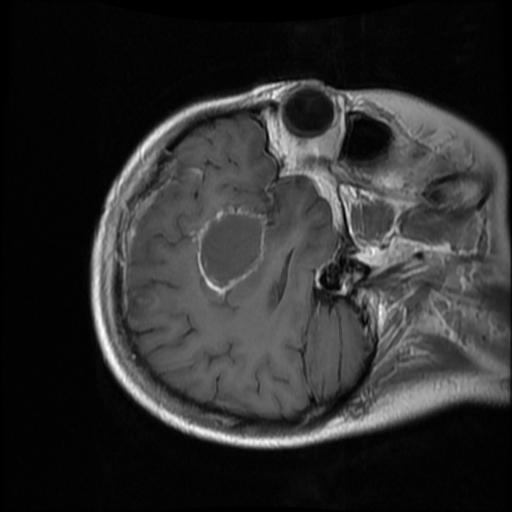glioma: (195, 207, 268, 294)
